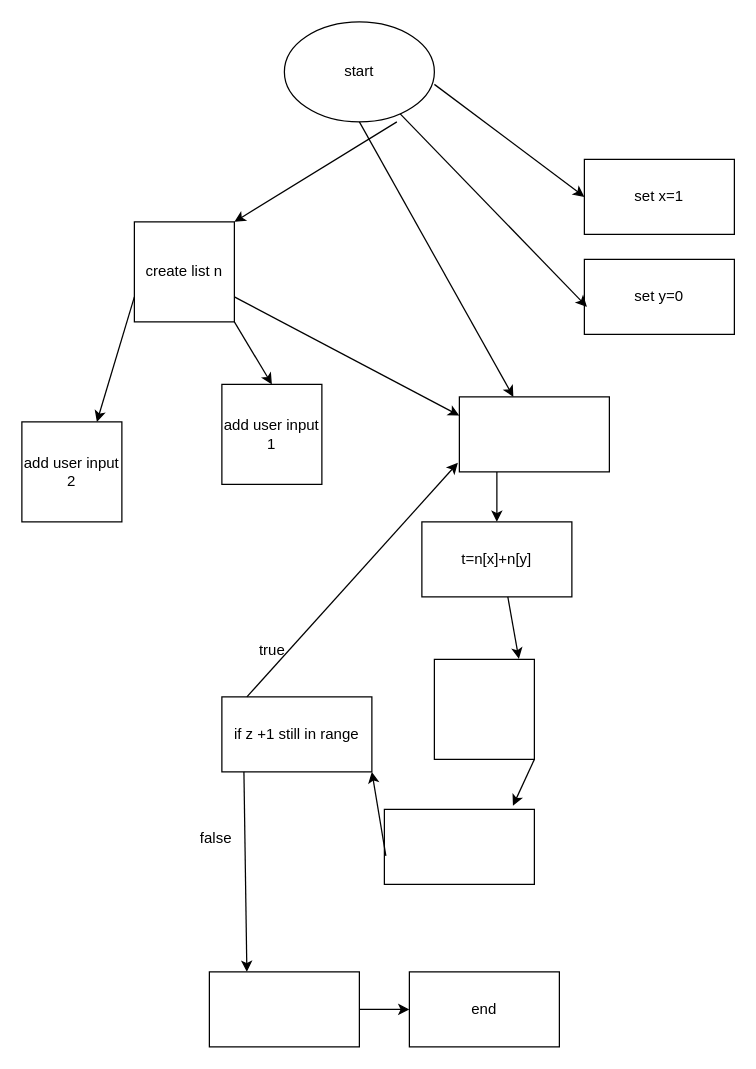
This 756x1069 diagram has some shape labels left out. The centre of each missing label's shape, as x and y in pixels:
add t to list n with n.append(t): point (483, 708)
for z in range(len(n),5): point (533, 434)
print(n): point (283, 1009)
y+=1 x=+1: point (458, 846)
